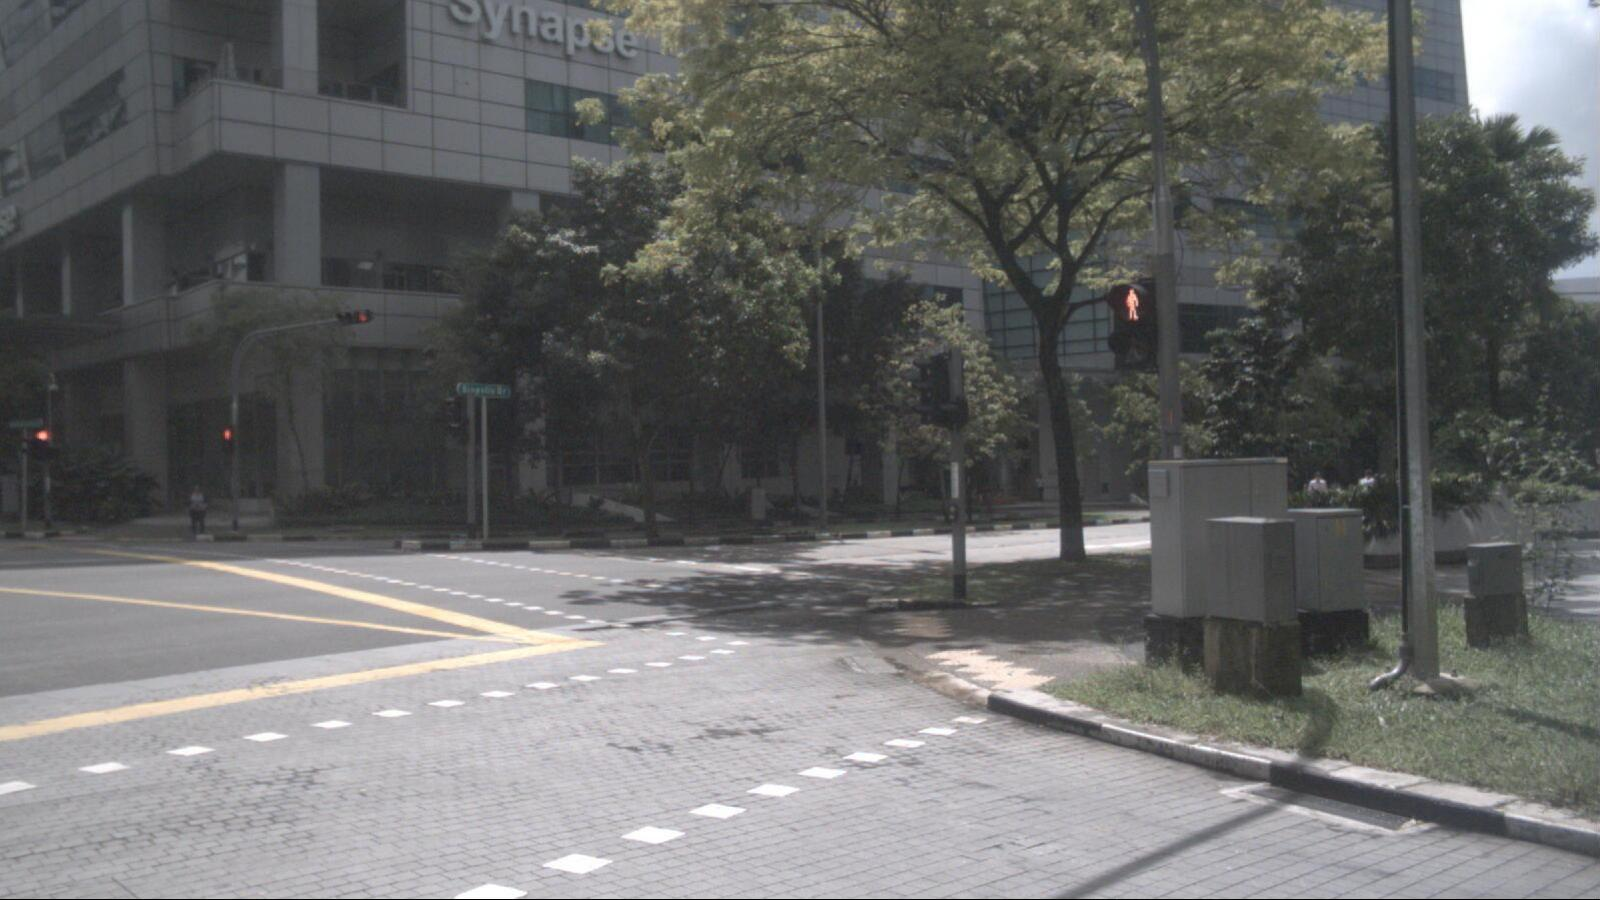human.pedestrian.adult-pedestrian.moving: (1305, 471, 1327, 533), (1356, 469, 1376, 531), (1034, 476, 1044, 504)
human.pedestrian.adult-pedestrian.standing: (185, 484, 209, 537)
